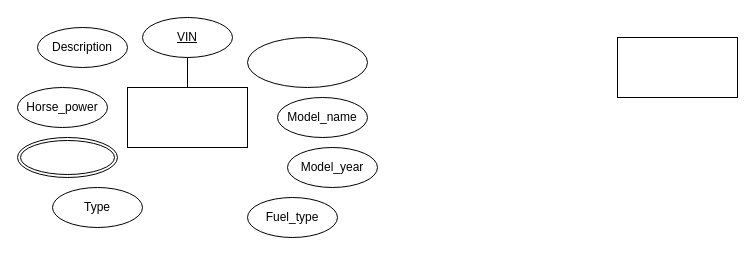
Some shapes in this 755 by 255 pixel diagram are drawn without their labels. The centre of each missing label's shape, as x and y in pixels:
"Color" goes at point 67,157.
"Manufacturer_name" goes at point 307,62.
"VEHICLE" goes at point 187,117.
